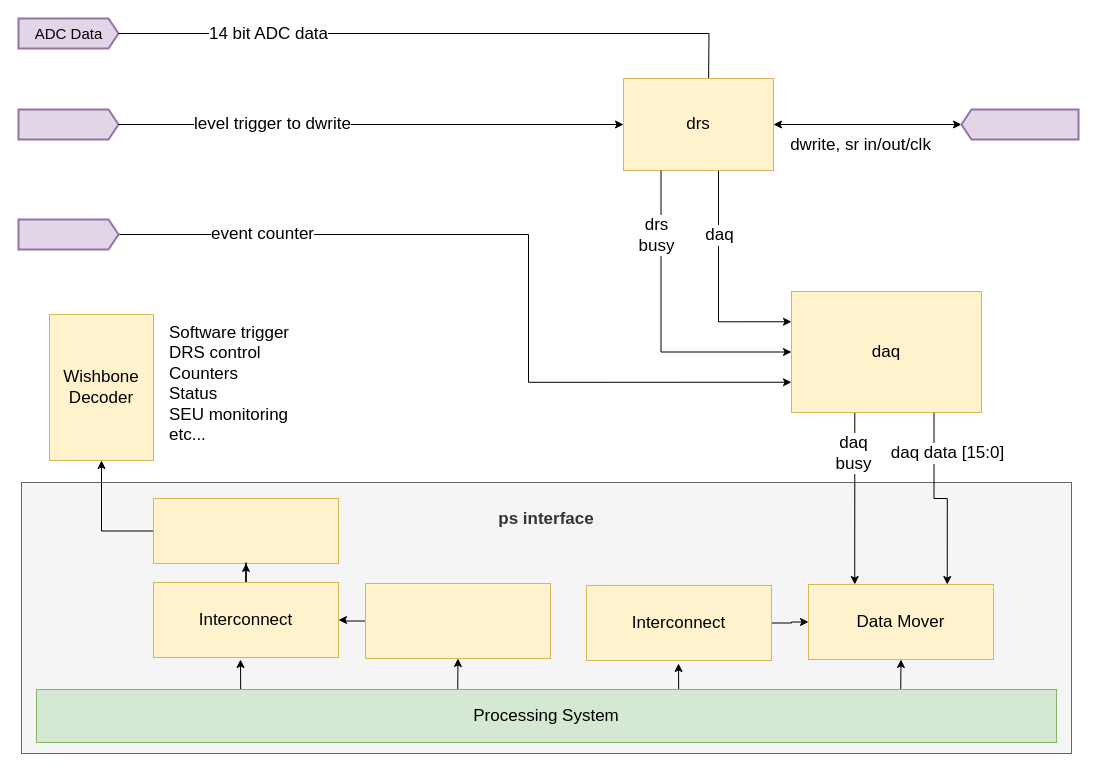
Some shapes in this 1096 by 771 pixel diagram are drawn without their labels. Here are the shapes that lost their labels. From the top down, the centre of each, then its label:
At point (68, 124): "Trigger".
At point (1019, 124): "DRS Control".
At point (68, 234): "Event ID".
At point (245, 531): "AXI to Wishbone Converter".
At point (457, 620): "JTAG AXI Master".
